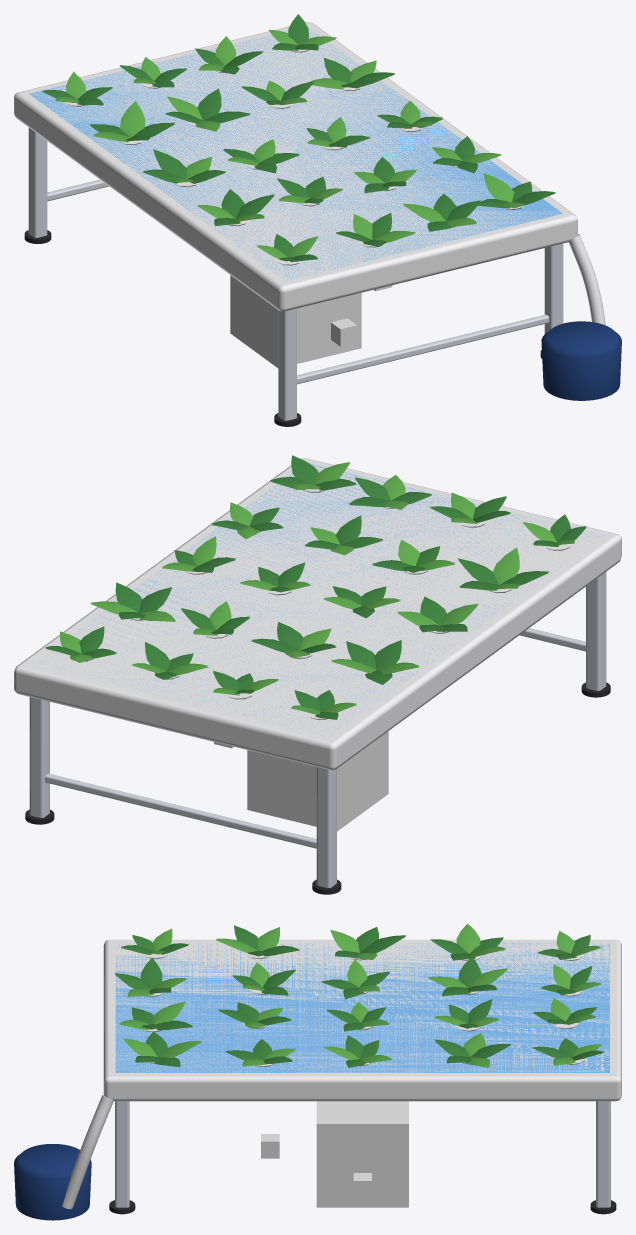
Rendered from HydroTray.fbx.
The picture shows the model from 3 angles, top to bottom: view 1: azimuth 30°, elevation 25°; view 2: azimuth 150°, elevation 25°; view 3: azimuth 270°, elevation 25°; orthographic projection. The views are drawn at different scales.
Parts seen in each view (by area): view 1: Body__White, Body__Water, Body__LeafDark, Body__Leaf, Body__Chrome, Origin__Pivot, Body__BlueDark, Origin__AxisZ; view 2: Body__White, Body__LeafDark, Body__Leaf, Body__Chrome, Body__Water, Origin__Pivot, Body__Rubber; view 3: Body__White, Body__Water, Body__LeafDark, Origin__Pivot, Body__Leaf, Body__BlueDark, Body__Chrome, Body__Rubber, Origin__AxisX, Origin__AxisZ.
Boxes of the visible parts, box(x1,y1,x2,y2) form: Body__White: box(14, 22, 605, 325); Body__Water: box(29, 26, 562, 280); Body__LeafDark: box(42, 14, 555, 261); Body__Leaf: box(55, 29, 524, 259); Body__Chrome: box(28, 127, 563, 420); Origin__Pivot: box(230, 275, 361, 367); Body__BlueDark: box(541, 321, 621, 400); Origin__AxisZ: box(331, 318, 356, 346); Body__White: box(14, 458, 621, 770); Body__LeafDark: box(45, 455, 586, 719); Body__Leaf: box(60, 462, 574, 714); Body__Chrome: box(29, 572, 606, 887); Body__Water: box(38, 463, 598, 735); Origin__Pivot: box(247, 731, 388, 831); Body__Rubber: box(25, 682, 610, 894); Body__White: box(62, 939, 621, 1209); Body__Water: box(115, 942, 609, 1072); Body__LeafDark: box(115, 925, 603, 1067); Origin__Pivot: box(316, 1101, 408, 1207); Body__Leaf: box(119, 923, 601, 1067); Body__BlueDark: box(14, 1144, 91, 1220); Body__Chrome: box(115, 1101, 610, 1207); Body__Rubber: box(109, 1200, 616, 1214); Origin__AxisX: box(353, 1173, 371, 1197); Origin__AxisZ: box(261, 1134, 279, 1158).
Bounding box in the file's own units: 3.73 × 2.37 × 6.57.
